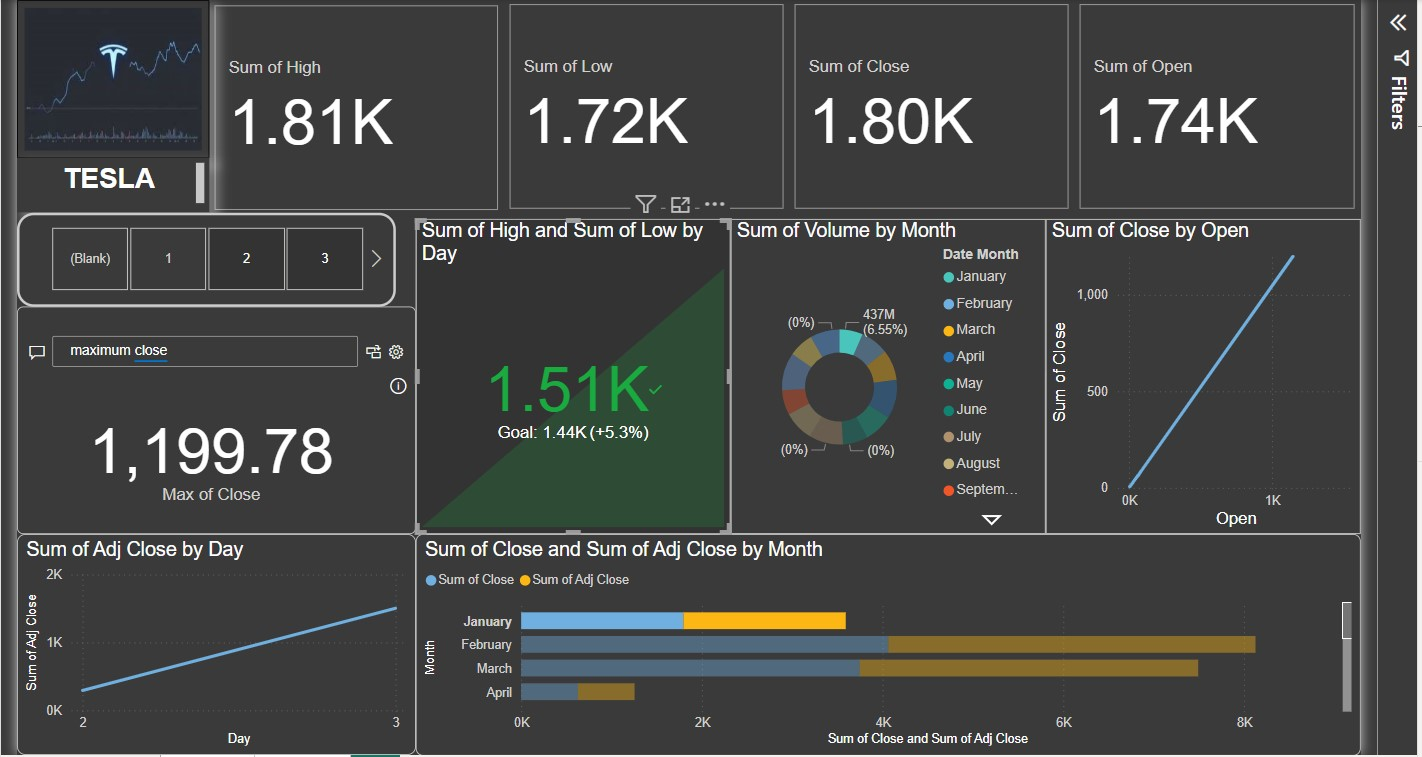

Layout of this report page (visuals, bound fields, positions):
{"tool":"powerbi","page":{"name":"Page 1","canvas":[1280,720],"ordinal":0},"visuals":[{"type":"cardVisual","fields":{"Data":["Sum(TSLA_PowerBI_Project.Open)"]},"box":[1007.1,0,272.6,206],"z":0},{"type":"cardVisual","fields":{"Data":["Sum(TSLA_PowerBI_Project.Low)"]},"box":[464.3,0,271.4,206],"z":1000},{"type":"cardVisual","fields":{"Data":["Sum(TSLA_PowerBI_Project.Close)"]},"box":[735.7,0,271.4,206],"z":2000},{"type":"cardVisual","fields":{"Data":["Sum(TSLA_PowerBI_Project.High)"]},"box":[183.3,1.2,281,206],"z":3000},{"type":"lineChart","fields":{"Y":["Sum(TSLA_PowerBI_Project.Close)"],"Category":["TSLA_PowerBI_Project.Open"]},"box":[979.8,209.5,300,300],"z":4000},{"type":"donutChart","fields":{"Y":["Sum(TSLA_PowerBI_Project.Volume)"],"Category":["TSLA_PowerBI_Project.Date.Variation.Date Hierarchy.Month","TSLA_PowerBI_Project.Date.Variation.Date Hierarchy.Day"]},"box":[679.8,209.5,300,300],"z":5000},{"type":"kpi","fields":{"Indicator":["Sum(TSLA_PowerBI_Project.High)"],"Goal":["Sum(TSLA_PowerBI_Project.Low)"],"TrendLine":["TSLA_PowerBI_Project.Date.Variation.Date Hierarchy.Day"]},"box":[379.8,209.5,300,300],"z":6000},{"type":"lineChart","fields":{"Category":["TSLA_PowerBI_Project.Date.Variation.Date Hierarchy.Day"],"Y":["Sum(TSLA_PowerBI_Project.Adj Close)"]},"box":[0,509.5,379.8,210.7],"z":7000},{"type":"image","box":[0,1.2,183.3,150],"z":8000},{"type":"textbox","box":[0,151.2,183.3,52.4],"z":9000},{"type":"qnaVisual","box":[0,292.9,379.8,216.7],"z":10000},{"type":"slicer","fields":{"Values":["TSLA_PowerBI_Project.Date.Variation.Date Hierarchy.Day"]},"box":[0,203.6,360.7,89.3],"z":11000},{"type":"barChart","fields":{"Category":["TSLA_PowerBI_Project.Date.Variation.Date Hierarchy.Month","TSLA_PowerBI_Project.Date.Variation.Date Hierarchy.Day"],"Y":["Sum(TSLA_PowerBI_Project.Close)","Sum(TSLA_PowerBI_Project.Adj Close)"]},"box":[379.8,509.5,900,211],"z":12000}]}

Visuals, with their boxes on the page's 1280x720 design canvas (x1, y1, x2, y2). These are canvas units, not pixel positions in the 1422x757 screenshot, which may show the page scaled, cropped or inside an application window:
cardVisual - Sum(TSLA_PowerBI_Project.Open): <bbox>1007, 0, 1280, 206</bbox>
cardVisual - Sum(TSLA_PowerBI_Project.Low): <bbox>464, 0, 736, 206</bbox>
cardVisual - Sum(TSLA_PowerBI_Project.Close): <bbox>736, 0, 1007, 206</bbox>
cardVisual - Sum(TSLA_PowerBI_Project.High): <bbox>183, 1, 464, 207</bbox>
lineChart - Sum(TSLA_PowerBI_Project.Close) x TSLA_PowerBI_Project.Open: <bbox>980, 210, 1280, 510</bbox>
donutChart - Sum(TSLA_PowerBI_Project.Volume) x TSLA_PowerBI_Project.Date.Variation.Date Hierarchy.Month: <bbox>680, 210, 980, 510</bbox>
kpi - Sum(TSLA_PowerBI_Project.High) x Sum(TSLA_PowerBI_Project.Low): <bbox>380, 210, 680, 510</bbox>
lineChart - TSLA_PowerBI_Project.Date.Variation.Date Hierarchy.Day x Sum(TSLA_PowerBI_Project.Adj Close): <bbox>0, 510, 380, 720</bbox>
image: <bbox>0, 1, 183, 151</bbox>
textbox: <bbox>0, 151, 183, 204</bbox>
qnaVisual: <bbox>0, 293, 380, 510</bbox>
slicer - TSLA_PowerBI_Project.Date.Variation.Date Hierarchy.Day: <bbox>0, 204, 361, 293</bbox>
barChart - TSLA_PowerBI_Project.Date.Variation.Date Hierarchy.Month x TSLA_PowerBI_Project.Date.Variation.Date Hierarchy.Day: <bbox>380, 510, 1280, 720</bbox>
